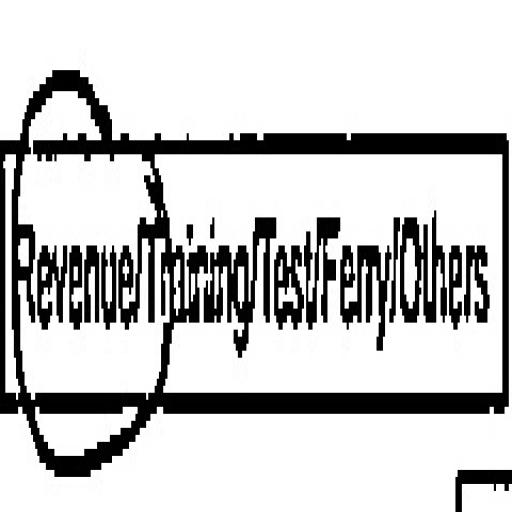check: (5, 6, 154, 512)
